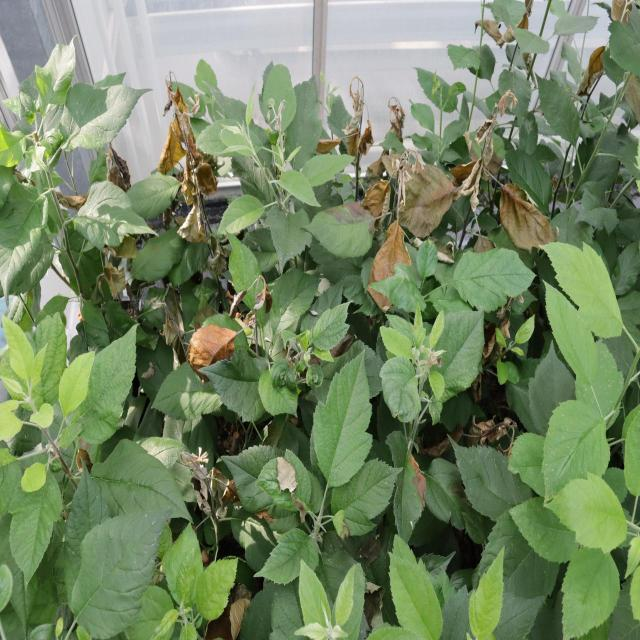-FireBlight-: (160, 78, 215, 244), (388, 150, 454, 231), (499, 187, 551, 245), (346, 76, 372, 182), (185, 325, 240, 364), (381, 239, 417, 276), (386, 97, 408, 137)
